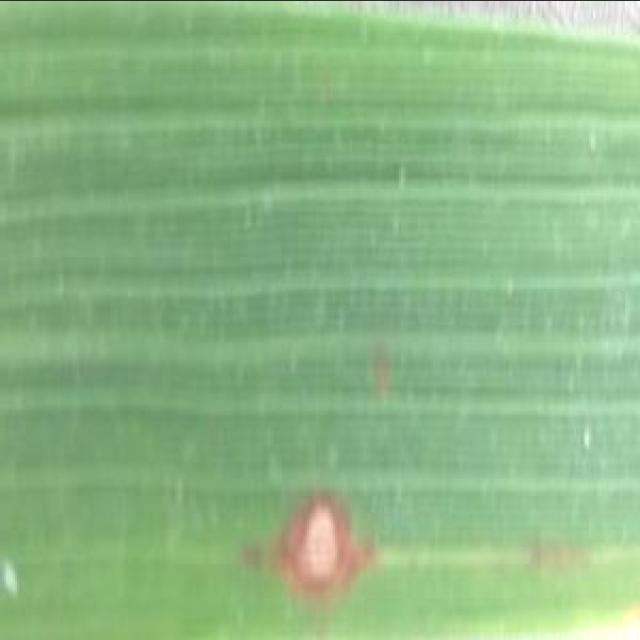Brown_Spot: (248, 481, 384, 613)
